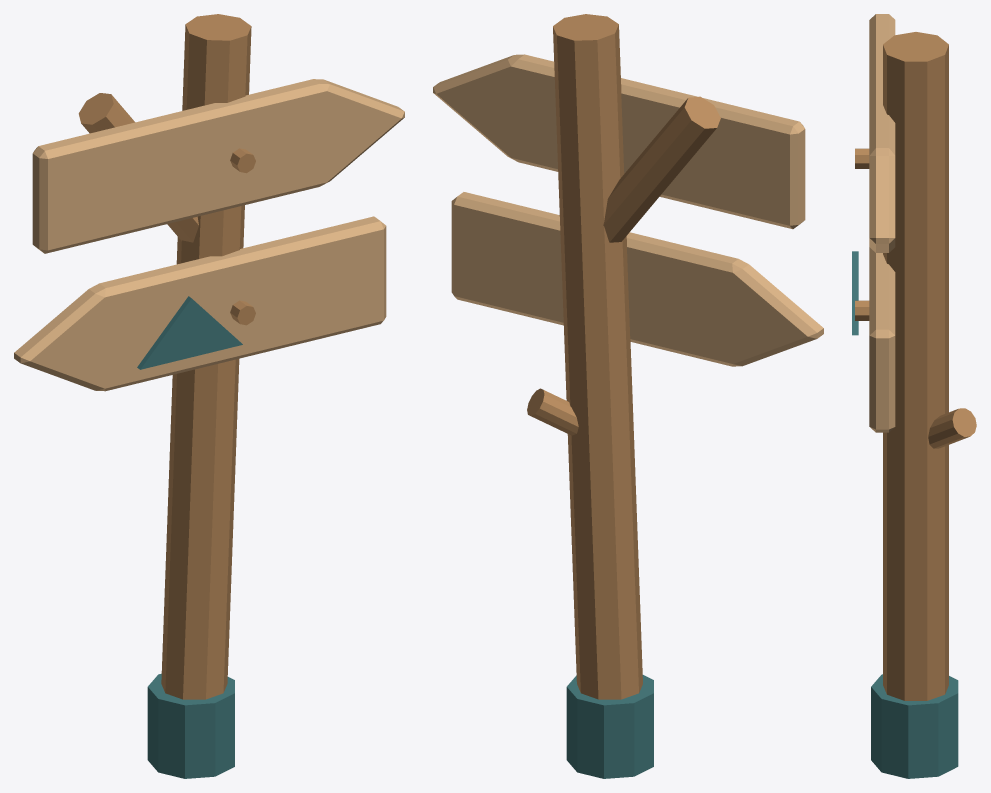
3 views of the same model, side by side, from view 1: azimuth 30°, elevation 25°; view 2: azimuth 150°, elevation 25°; view 3: azimuth 270°, elevation 25° (orthographic).
Visible parts, largest first — view 1: camping-trail-marker-01; view 2: camping-trail-marker-01; view 3: camping-trail-marker-01.
Boxes of the visible parts, bbox=[...] form: camping-trail-marker-01: bbox=[14, 14, 404, 778]; camping-trail-marker-01: bbox=[433, 14, 823, 778]; camping-trail-marker-01: bbox=[852, 14, 976, 778].
Bounding box in the file's own units: 0.8193 × 1.48 × 0.2304.
